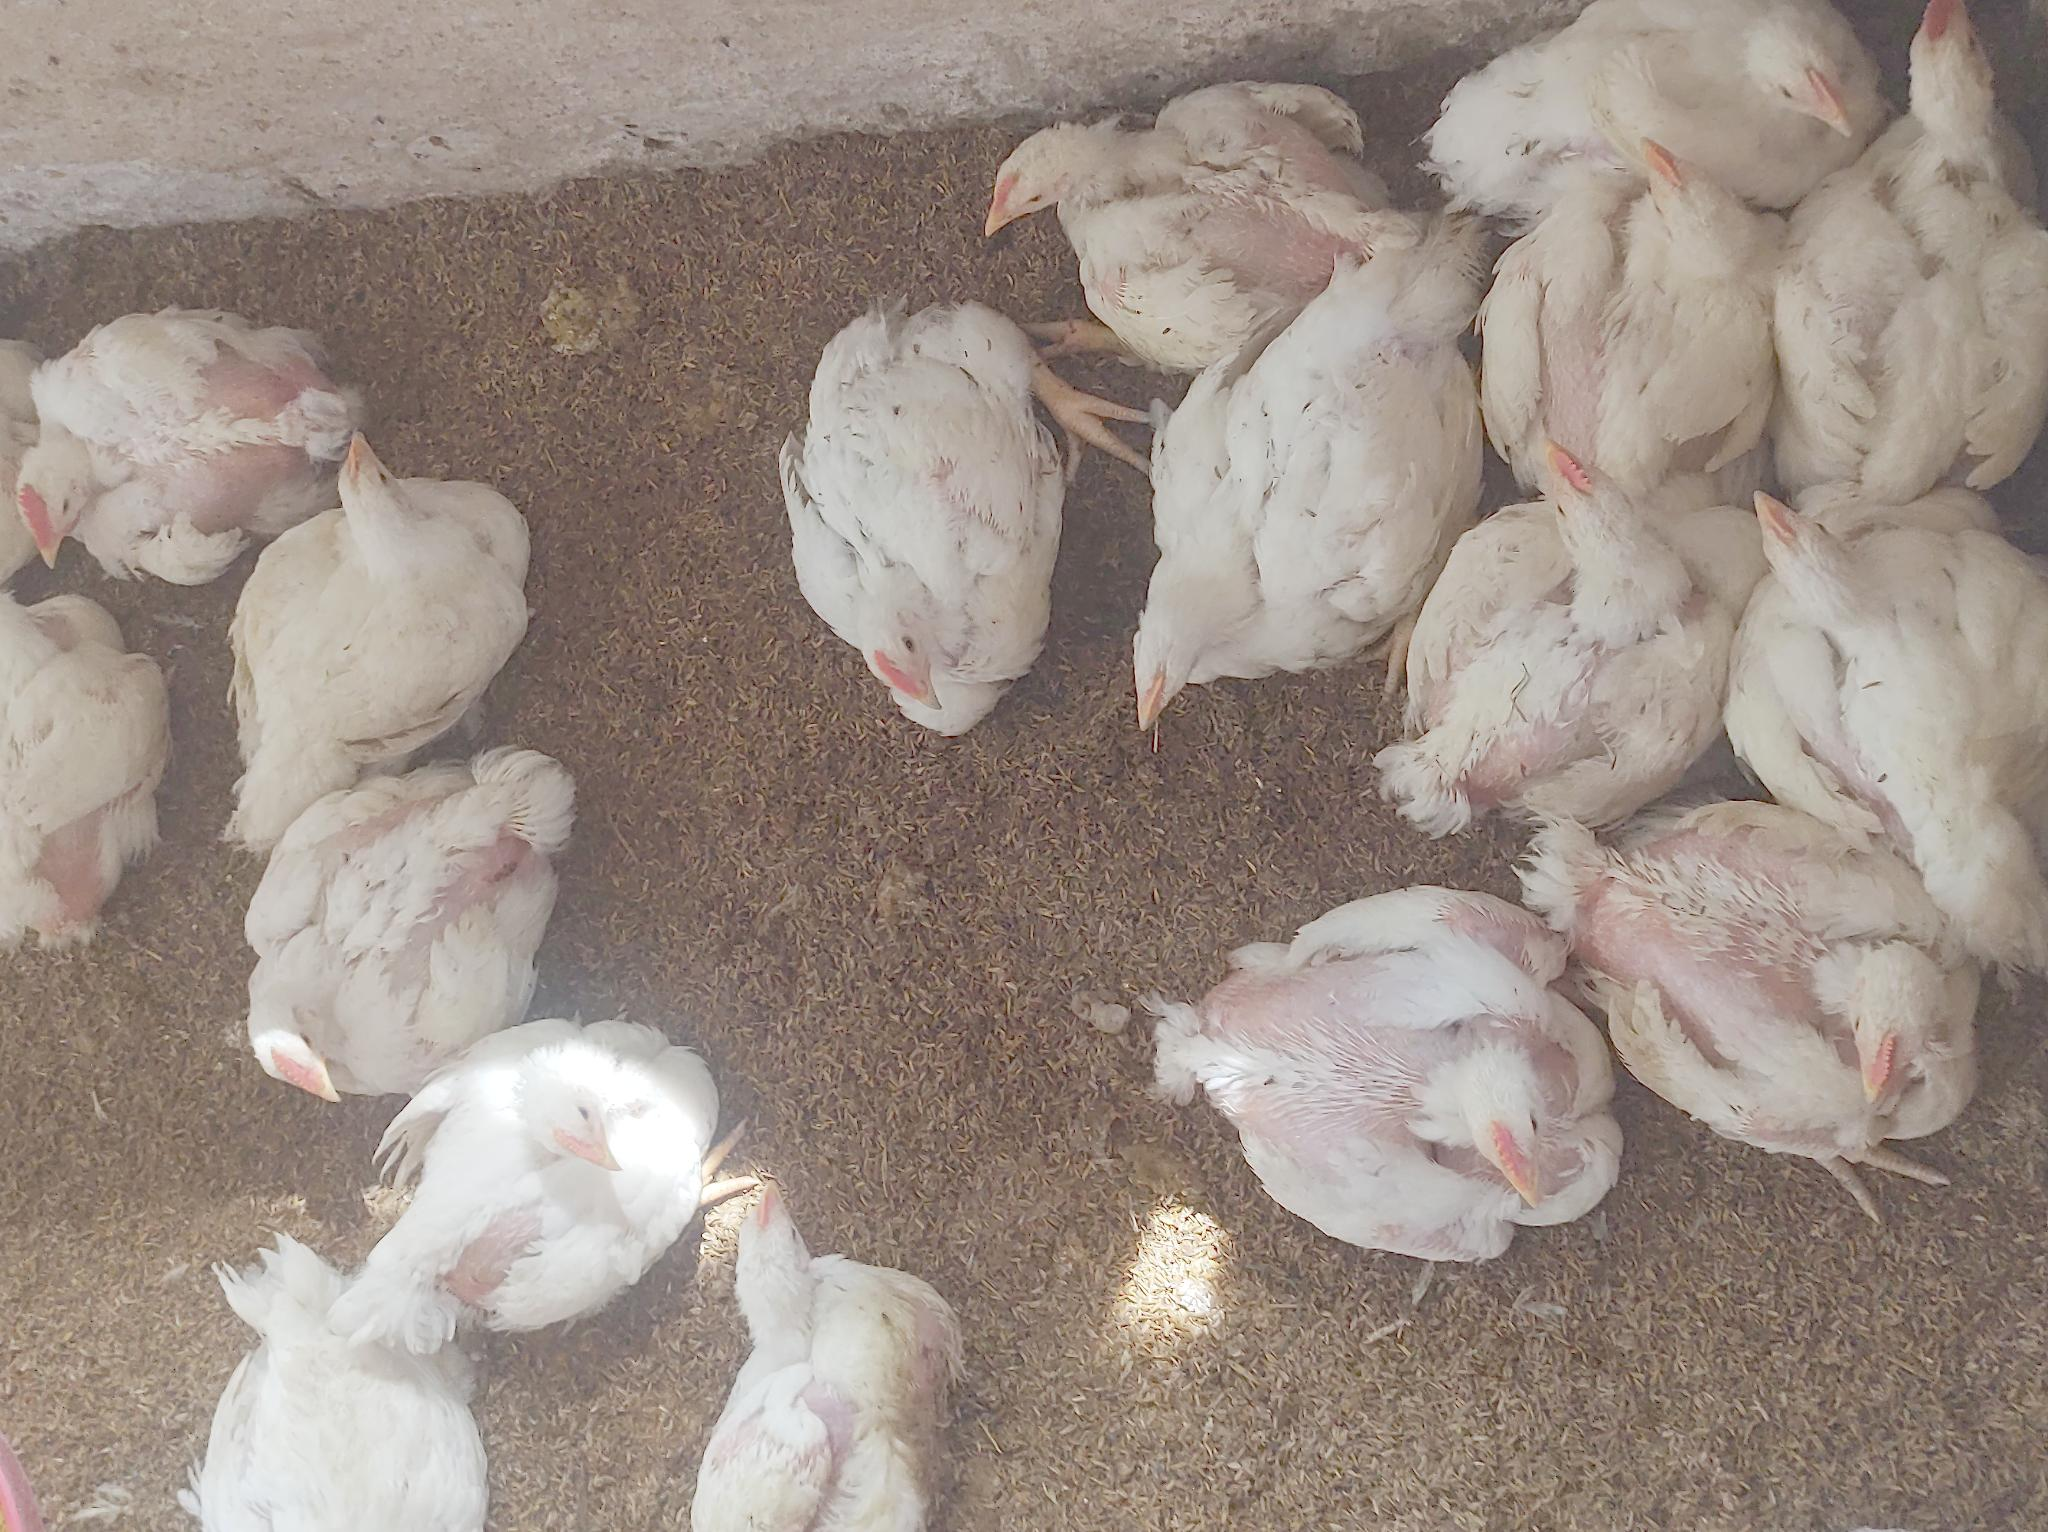Pollos: (1137, 887, 1618, 1316), (1125, 191, 1474, 729), (1606, 793, 2017, 1196), (997, 47, 1414, 386), (1770, 0, 2048, 500), (331, 1011, 714, 1361), (1421, 438, 1741, 850), (245, 739, 597, 1094), (792, 272, 1063, 732), (228, 420, 570, 779), (26, 272, 402, 571), (1414, 0, 1884, 232), (1741, 484, 2048, 837), (652, 1186, 960, 1532), (1491, 143, 1770, 484), (204, 1233, 473, 1532), (0, 568, 167, 961)
